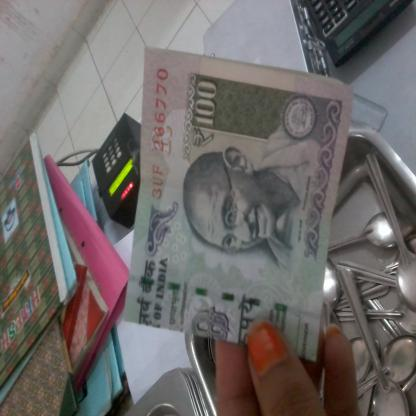Old100Front: (122, 46, 354, 364)
